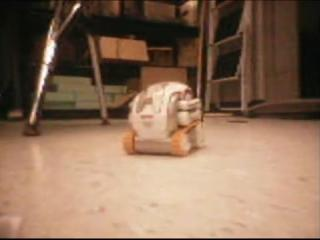cozmo: (122, 80, 205, 156)
